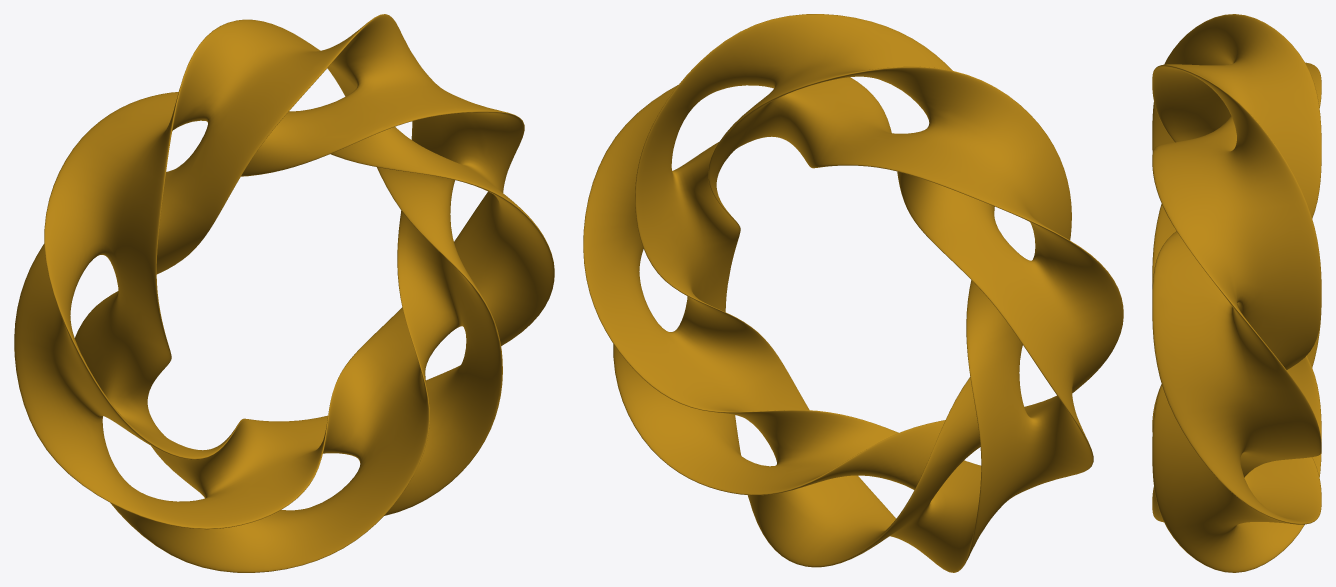
Rendered from gold-ring.glb.
3 renders of one model, left to right at view 1: azimuth 30°, elevation 25°; view 2: azimuth 150°, elevation 25°; view 3: azimuth 270°, elevation 25°, orthographic. The views are drawn at different scales.
Visible parts, largest first — view 1: Plane001_01 - Default_0; view 2: Plane001_01 - Default_0; view 3: Plane001_01 - Default_0.
Part boxes in pixels (x1=…): Plane001_01 - Default_0: x1=14, y1=14, x2=554, y2=572; Plane001_01 - Default_0: x1=583, y1=14, x2=1123, y2=572; Plane001_01 - Default_0: x1=1152, y1=14, x2=1321, y2=572.
Size of the model in its own units: 6.34 by 6.34 by 2.02.
